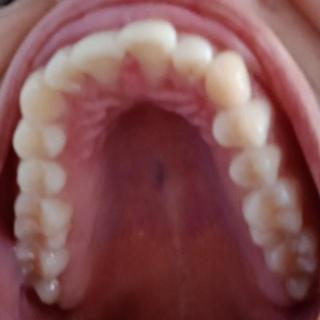UL1BC_healthy: (212, 101, 270, 148)
UL1M_decay: (242, 183, 303, 244)
UL2BC_healthy: (229, 149, 279, 186)
UL2M_decay: (264, 238, 317, 298)
ULCI_healthy: (122, 19, 177, 72)
ULC_healthy: (206, 51, 251, 106)
ULLI_healthy: (173, 34, 212, 77)
UR1BC_healthy: (12, 120, 65, 159)
UR1M_decay: (14, 198, 71, 248)
UR2BC_healthy: (16, 159, 66, 196)
UR2M_decay: (14, 249, 68, 303)
URCI_healthy: (72, 31, 127, 79)
URC_healthy: (19, 67, 69, 123)
URLI_healthy: (45, 46, 81, 91)
